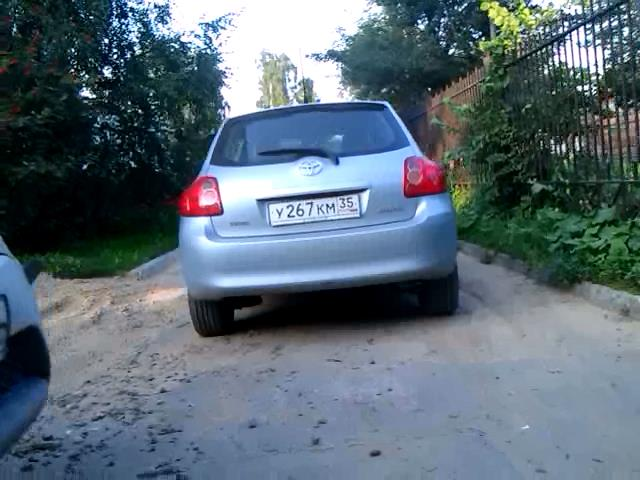car license plate: (261, 192, 364, 227)
